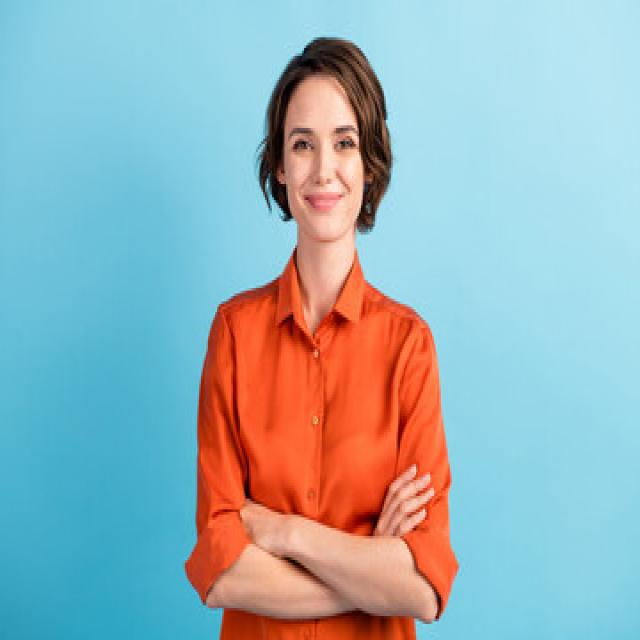person-without-mask: (172, 25, 525, 640)
